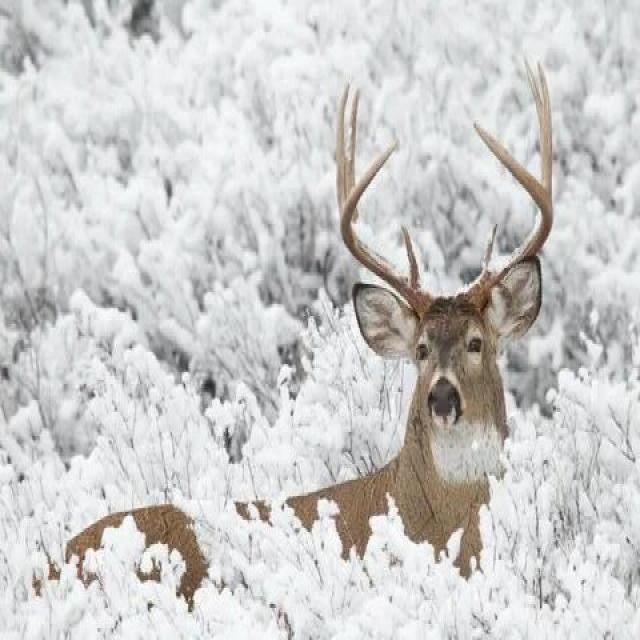deer: (268, 114, 570, 582)
